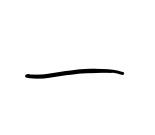minus: (25, 69, 124, 80)
